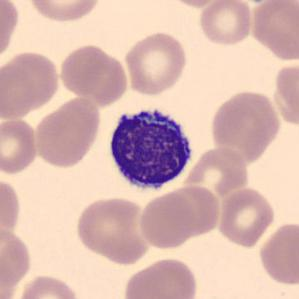Lymphocyte: (103, 101, 198, 196)
RBC: (73, 194, 154, 266), (208, 88, 282, 162), (32, 95, 103, 170), (56, 42, 130, 106), (122, 30, 190, 96), (0, 49, 62, 119), (215, 185, 276, 249), (182, 145, 250, 198), (137, 189, 196, 250), (161, 182, 223, 240), (121, 256, 200, 299), (249, 0, 299, 62), (257, 219, 298, 287), (196, 0, 254, 47), (0, 115, 40, 176), (0, 224, 34, 290), (13, 272, 83, 299), (25, 0, 103, 24), (272, 60, 298, 129), (0, 174, 22, 242), (0, 0, 21, 64), (163, 0, 225, 8)
